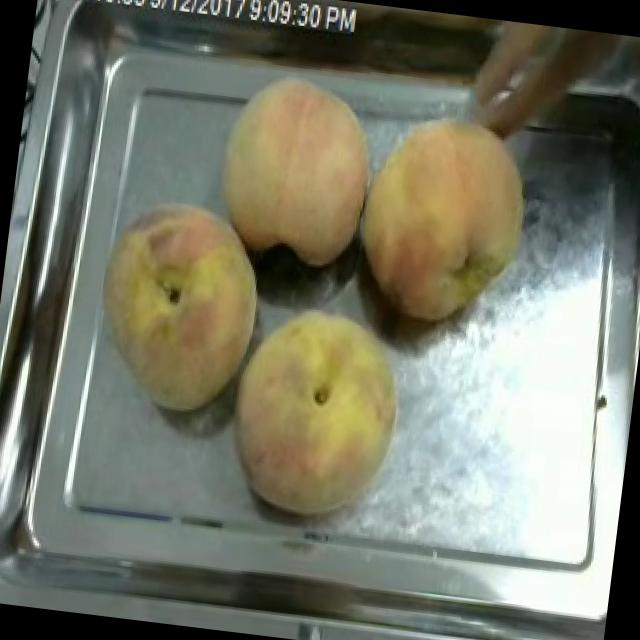Fruit: (344, 92, 551, 342), (212, 287, 420, 532), (76, 183, 278, 427), (201, 58, 390, 276)
